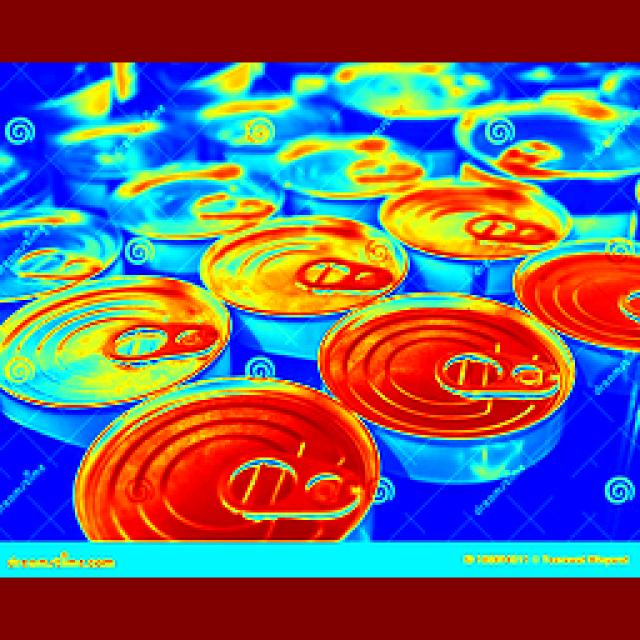Aluminium Food Cans: (317, 287, 578, 506), (78, 389, 377, 554), (2, 271, 228, 427), (189, 203, 389, 345), (378, 175, 576, 293), (530, 228, 640, 380)
